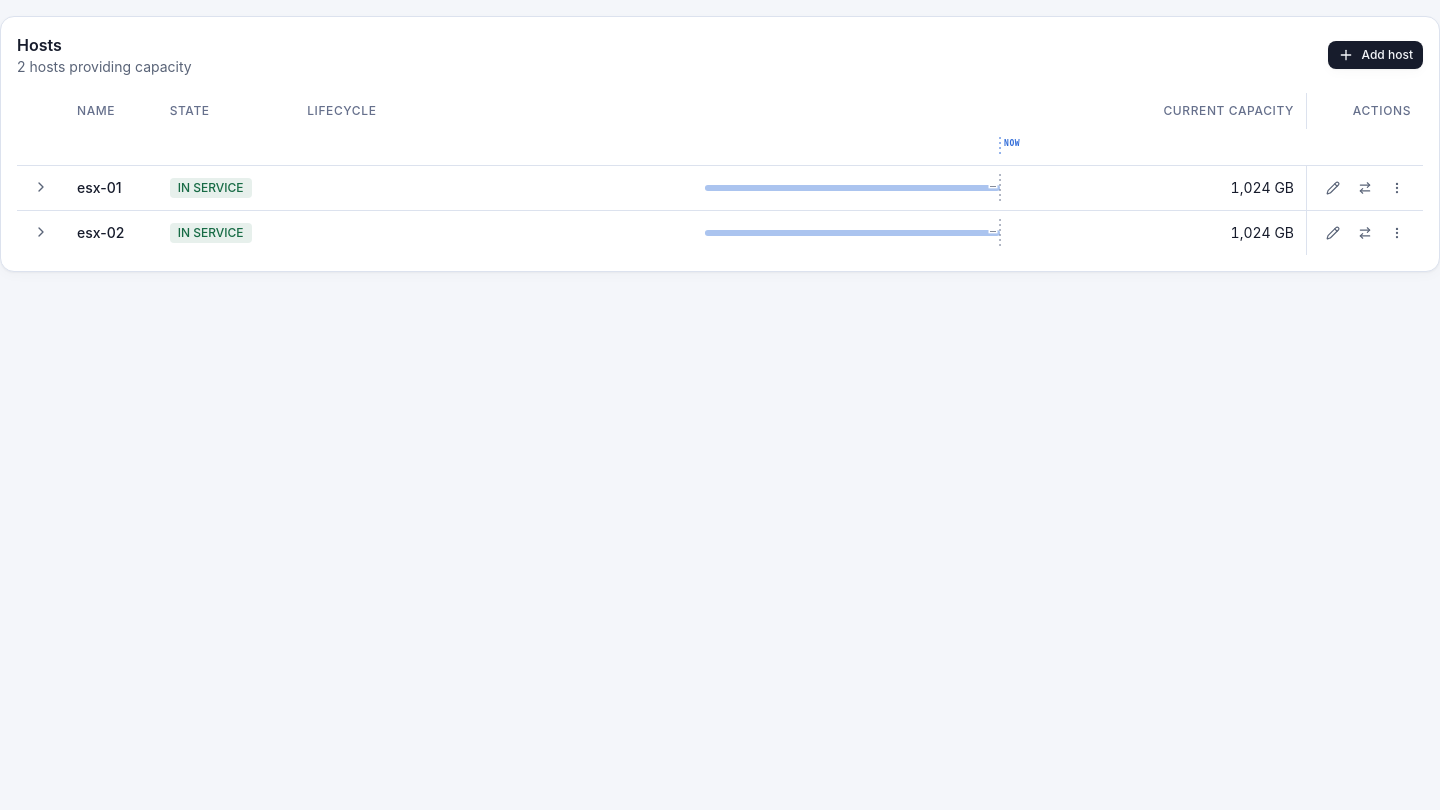
Test: HostsTab › row actions overflow menu (#243 Part B Medium) › still opens the existing confirmation dialogs for Decommission and Delete from the menu
This screenshot has width=1440, height=810.
Expected: the text "esx-01" is shown, [77,178,122,196]
Step 1. Click the button named "More actions" in the row of "esx-01" → [1397, 188], box [1383,174,1411,202]
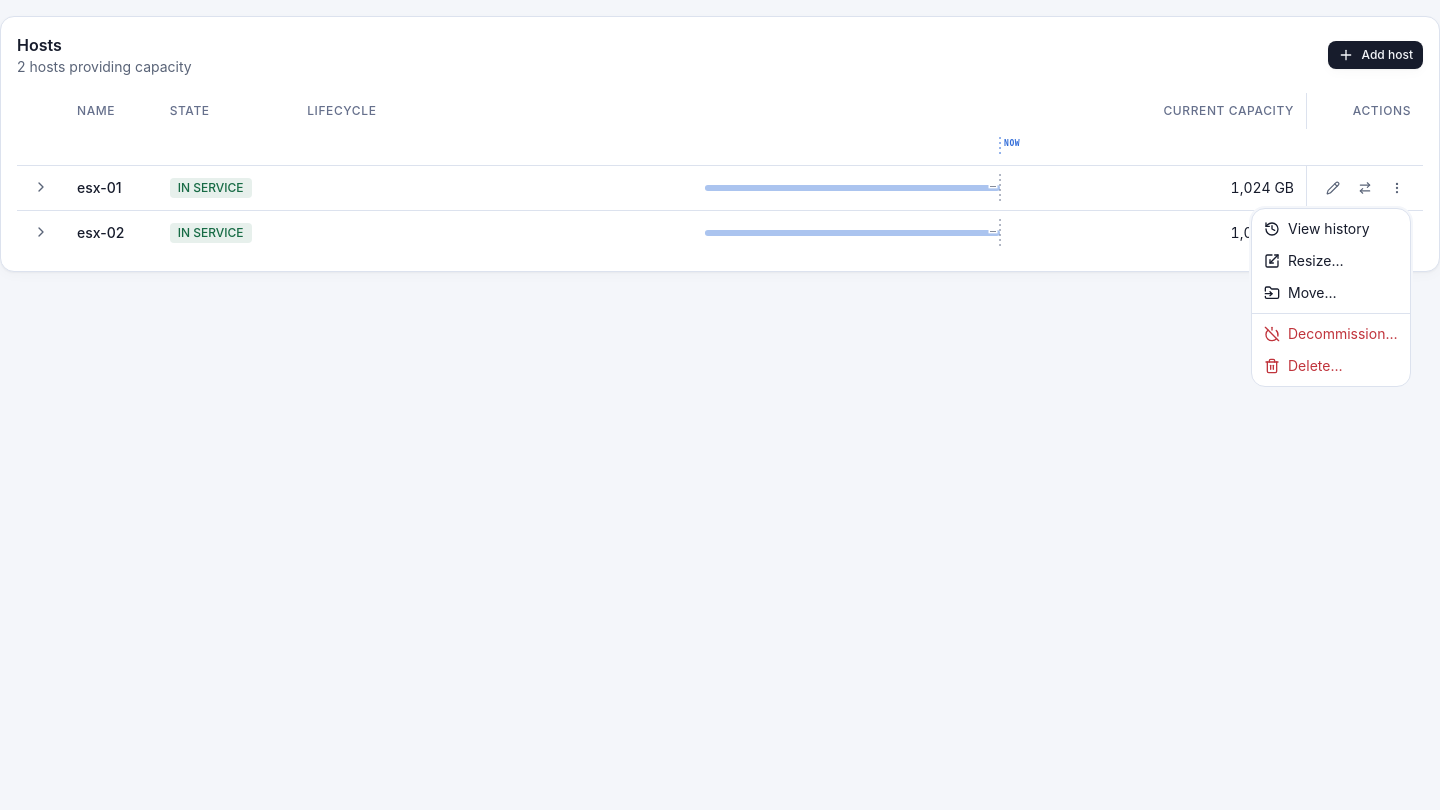
Step 2. Click the menu item "Delete…" → [1303, 366], box [1264,357,1342,374]
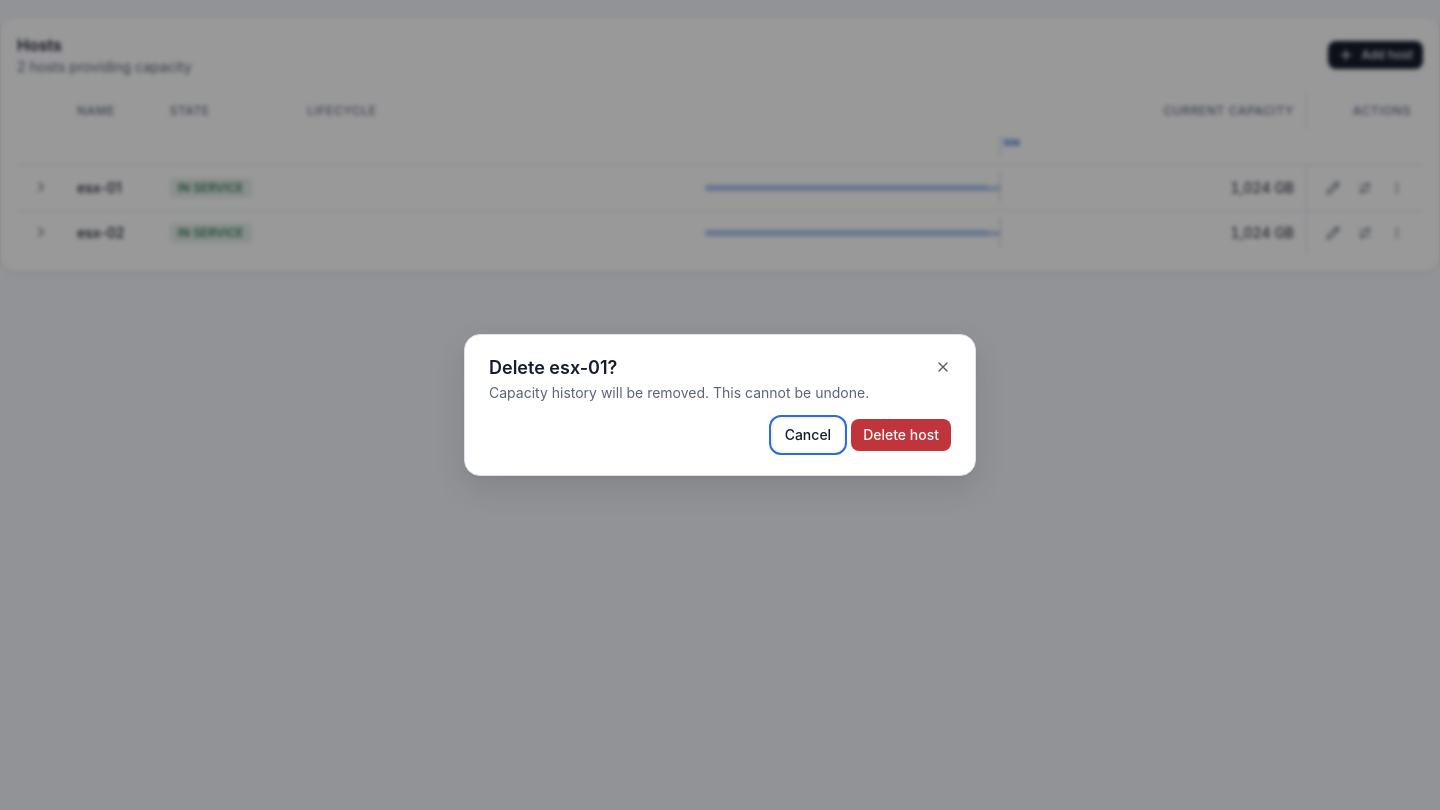
Result: the dialog "Delete esx-01" is shown at [464,334,976,476]
